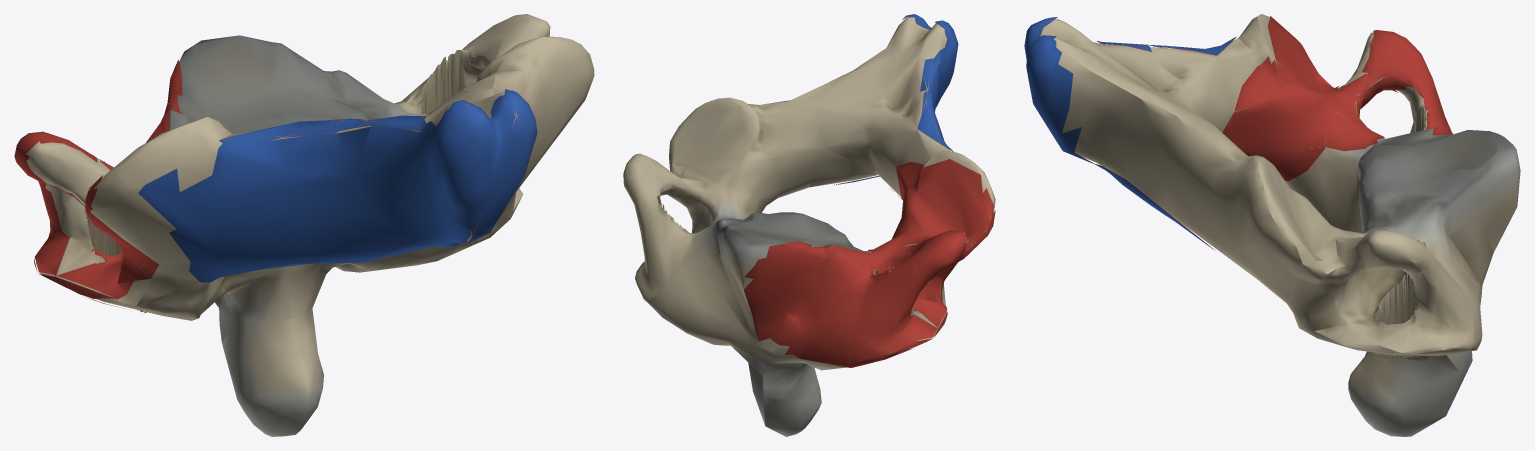
Rendered from axis-c2.glb.
The picture shows the model from 3 angles, left to right: view 1: azimuth 30°, elevation 25°; view 2: azimuth 150°, elevation 25°; view 3: azimuth 270°, elevation 25°; orthographic projection. The views are drawn at different scales.
Parts seen in each view (by area): view 1: FJ3177, insertio__processus-spinosus__m-semispinalis-cervicis, origo__corpus-facies-superior__m-longus-colli, axis-c2__dens, axis-c2__corpus-facies-superior; view 2: FJ3177, origo__corpus-facies-superior__m-longus-colli, axis-c2__dens, insertio__processus-spinosus__m-semispinalis-cervicis, axis-c2__corpus-facies-superior; view 3: FJ3177, origo__corpus-facies-superior__m-longus-colli, axis-c2__dens, insertio__processus-spinosus__m-semispinalis-cervicis, axis-c2__processus-spinosus, axis-c2__corpus-facies-superior.
Boxes of the visible parts, <box> form: FJ3177: <box>26,14,594,397</box>; insertio__processus-spinosus__m-semispinalis-cervicis: <box>138,89,537,282</box>; origo__corpus-facies-superior__m-longus-colli: <box>14,60,182,312</box>; axis-c2__dens: <box>215,290,323,436</box>; axis-c2__corpus-facies-superior: <box>25,61,182,306</box>; FJ3177: <box>623,18,995,394</box>; origo__corpus-facies-superior__m-longus-colli: <box>744,159,995,367</box>; axis-c2__dens: <box>742,351,834,436</box>; insertio__processus-spinosus__m-semispinalis-cervicis: <box>834,14,958,185</box>; axis-c2__corpus-facies-superior: <box>744,164,994,362</box>; FJ3177: <box>1041,14,1520,402</box>; origo__corpus-facies-superior__m-longus-colli: <box>1222,16,1453,181</box>; axis-c2__dens: <box>1348,351,1472,436</box>; insertio__processus-spinosus__m-semispinalis-cervicis: <box>1024,17,1235,249</box>; axis-c2__processus-spinosus: <box>1033,19,1237,248</box>; axis-c2__corpus-facies-superior: <box>1221,17,1450,151</box>.
Size of the model in its own units: 50.68 by 45.41 by 50.1.
